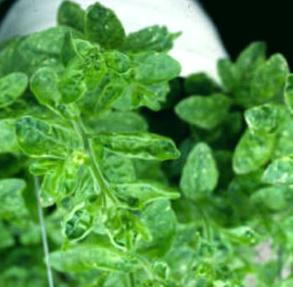Tomato leaf mosaic virus: (8, 115, 86, 165), (100, 130, 185, 160), (243, 103, 293, 133), (0, 68, 30, 111), (102, 50, 144, 72)
